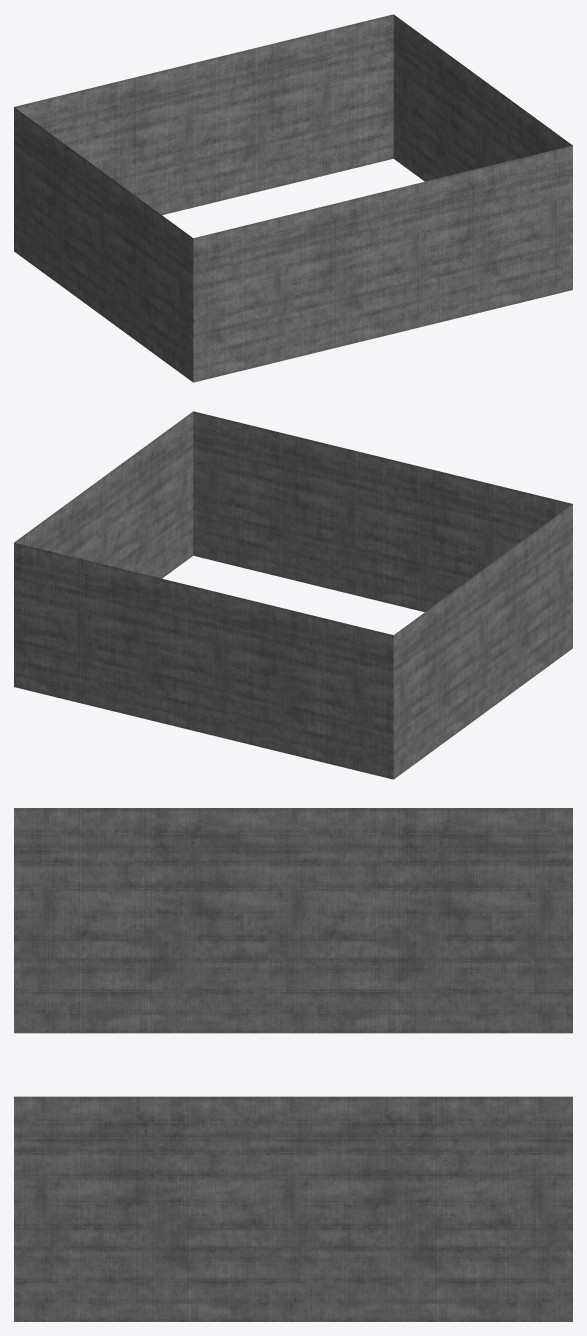
File: SM_Wall_36.fbx
3 views of the same model, one above another, from view 1: azimuth 30°, elevation 25°; view 2: azimuth 150°, elevation 25°; view 3: azimuth 270°, elevation 25° (orthographic). The views are drawn at different scales.
Visible parts, largest first — view 1: SM_Wall_38; view 2: SM_Wall_38; view 3: SM_Wall_38.
Boxes of the visible parts, x1=… form: SM_Wall_38: x1=14, y1=14, x2=572, y2=382; SM_Wall_38: x1=14, y1=411, x2=572, y2=779; SM_Wall_38: x1=14, y1=808, x2=572, y2=1321.
Size of the model in its own units: 1100 by 400 by 900.
